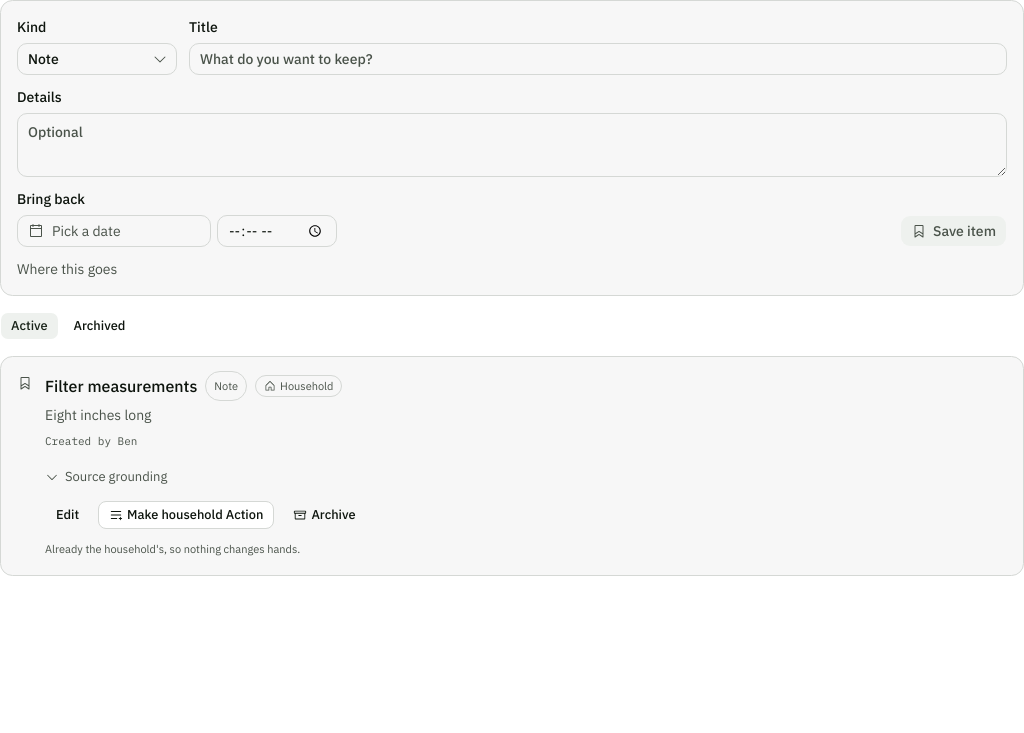
it: SavedItemsSurface › keeps the draft beside the current value when a household edit conflicts
Click the button "Edit". click: (68, 515)
box: [45,501,90,529]
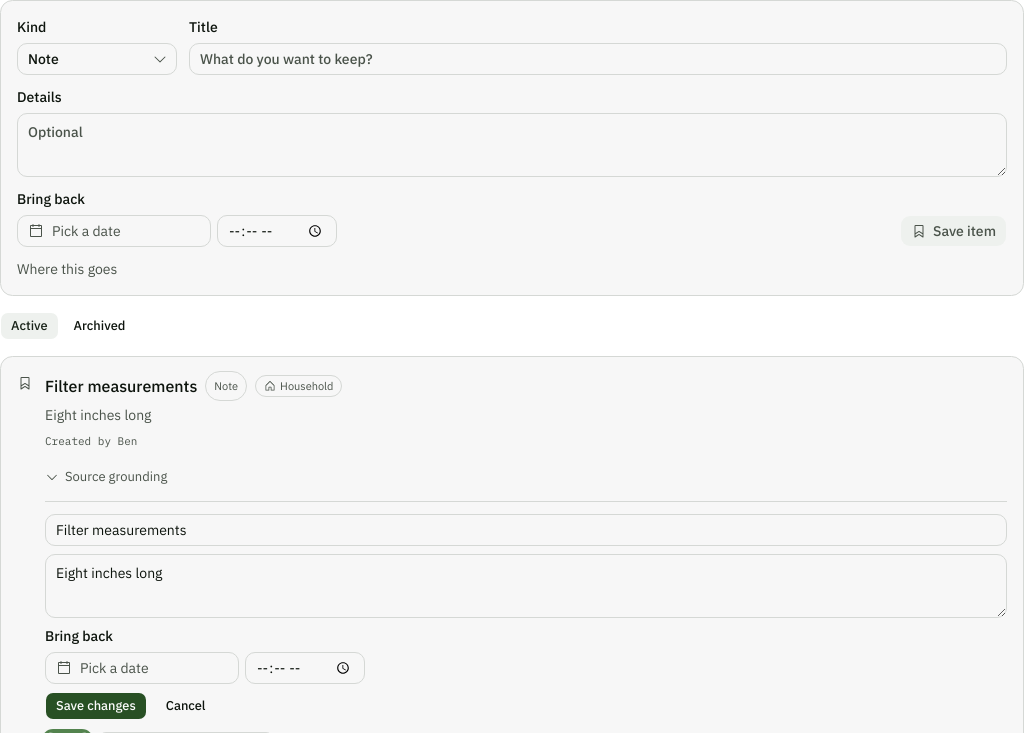
Replace the text in the field named "Edit title" with "Filter measurements v2". click: (526, 530)
box: [45,514,1007,546]
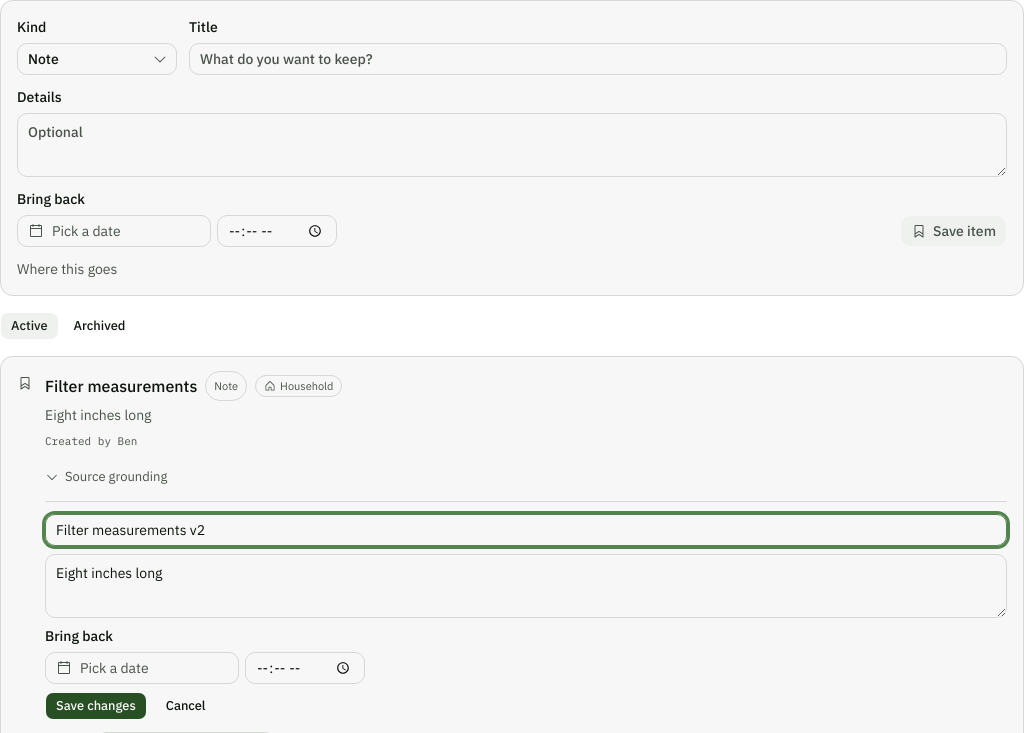
Click the button "Save changes". click: (96, 706)
box: [45,692,147,720]
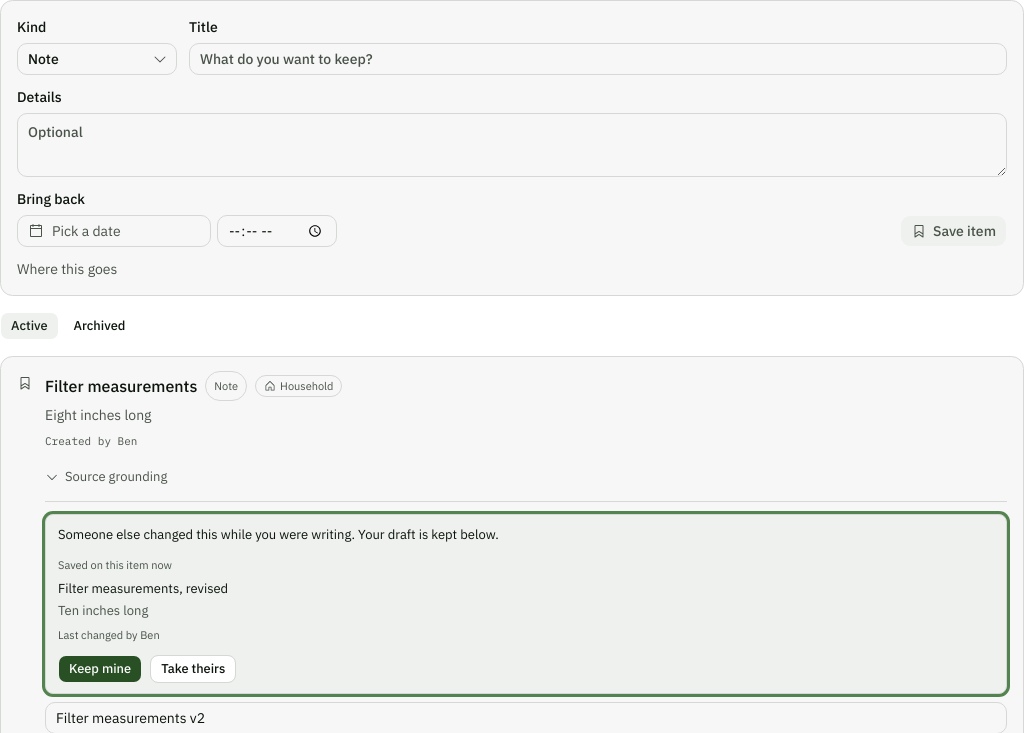
Check: the text "Someone else changed this while you were writing" is shown, box [58,526,499,543]
Check: the text "Filter measurements, revised" is shown, box [58,580,228,597]
Check: the text "Last changed by Ben" is shown, box [58,628,160,642]
Click the button "Keep mine". click: (100, 669)
box: [58,655,142,683]
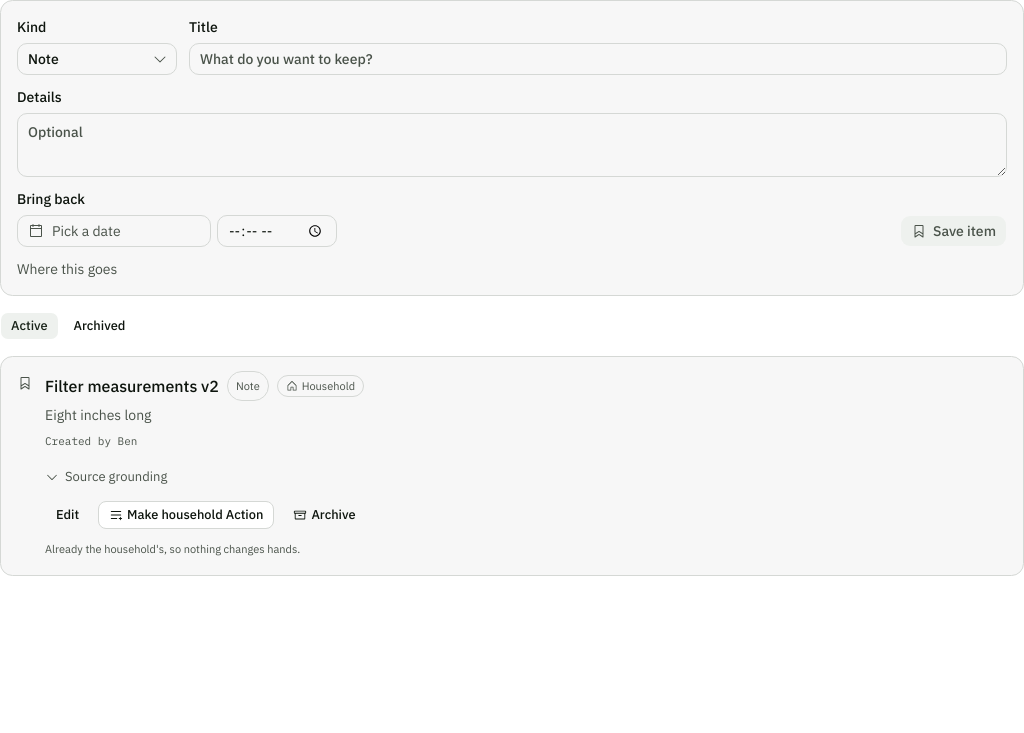
Check: the heading "Filter measurements v2" is shown, box [45,374,219,398]
